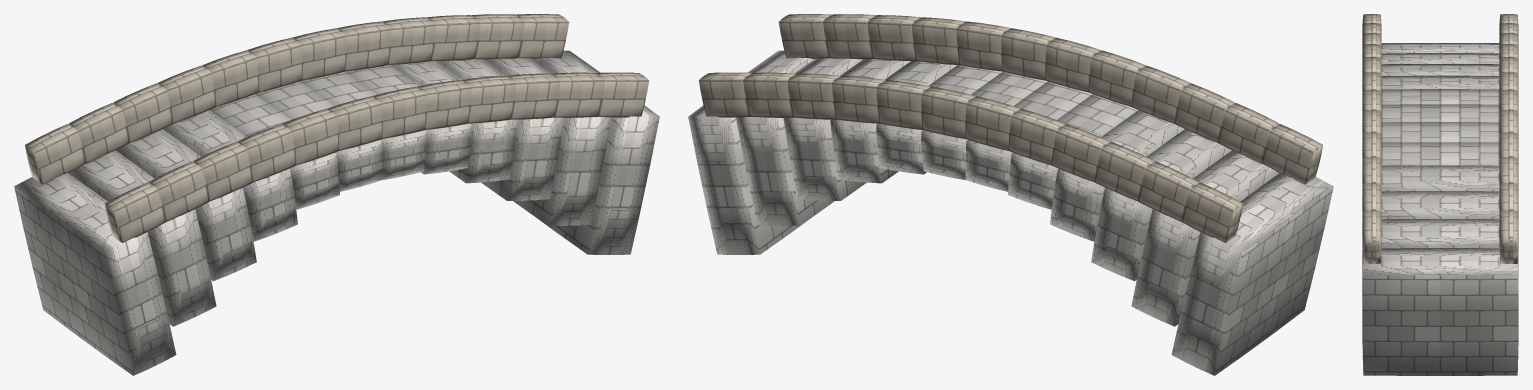
Rendered from bridge_stone.glb.
3 views of the same model, side by side, from view 1: azimuth 30°, elevation 25°; view 2: azimuth 150°, elevation 25°; view 3: azimuth 270°, elevation 25° (orthographic). The views are drawn at different scales.
Parts seen in each view (by area): view 1: bridge_stone_stone_blocks; view 2: bridge_stone_stone_blocks; view 3: bridge_stone_stone_blocks.
Part boxes in pixels (x1,y1,x2,y2): bridge_stone_stone_blocks: (14, 14, 659, 375); bridge_stone_stone_blocks: (688, 14, 1333, 375); bridge_stone_stone_blocks: (1362, 14, 1518, 375).
Bounding box in the file's own units: 8.44 × 3.09 × 2.4.
Materials: 1 (1 with a texture image).
